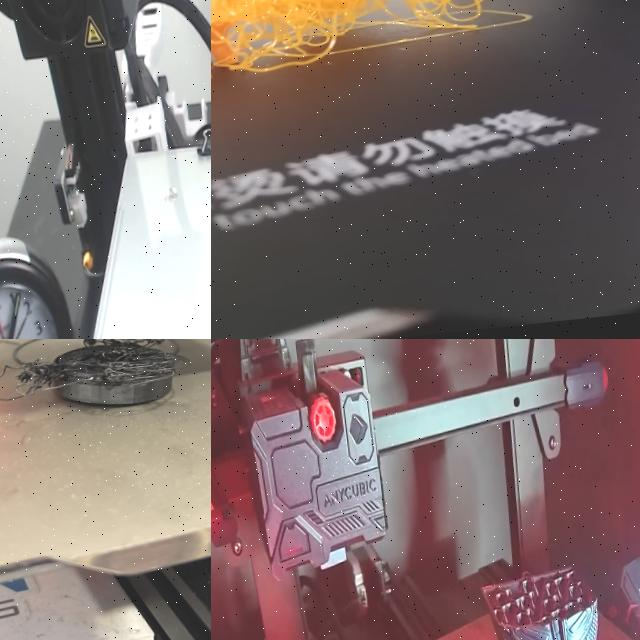spaghetti: (211, 0, 530, 96), (0, 339, 179, 411)
